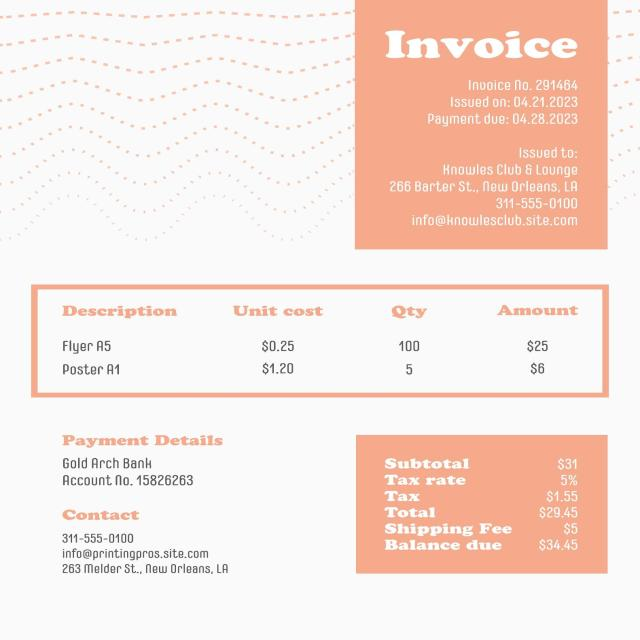paragraph: (344, 432, 614, 573), (370, 144, 587, 236), (44, 508, 258, 589), (47, 426, 249, 498), (399, 74, 597, 133), (370, 18, 586, 69)
table: (28, 285, 615, 398)
